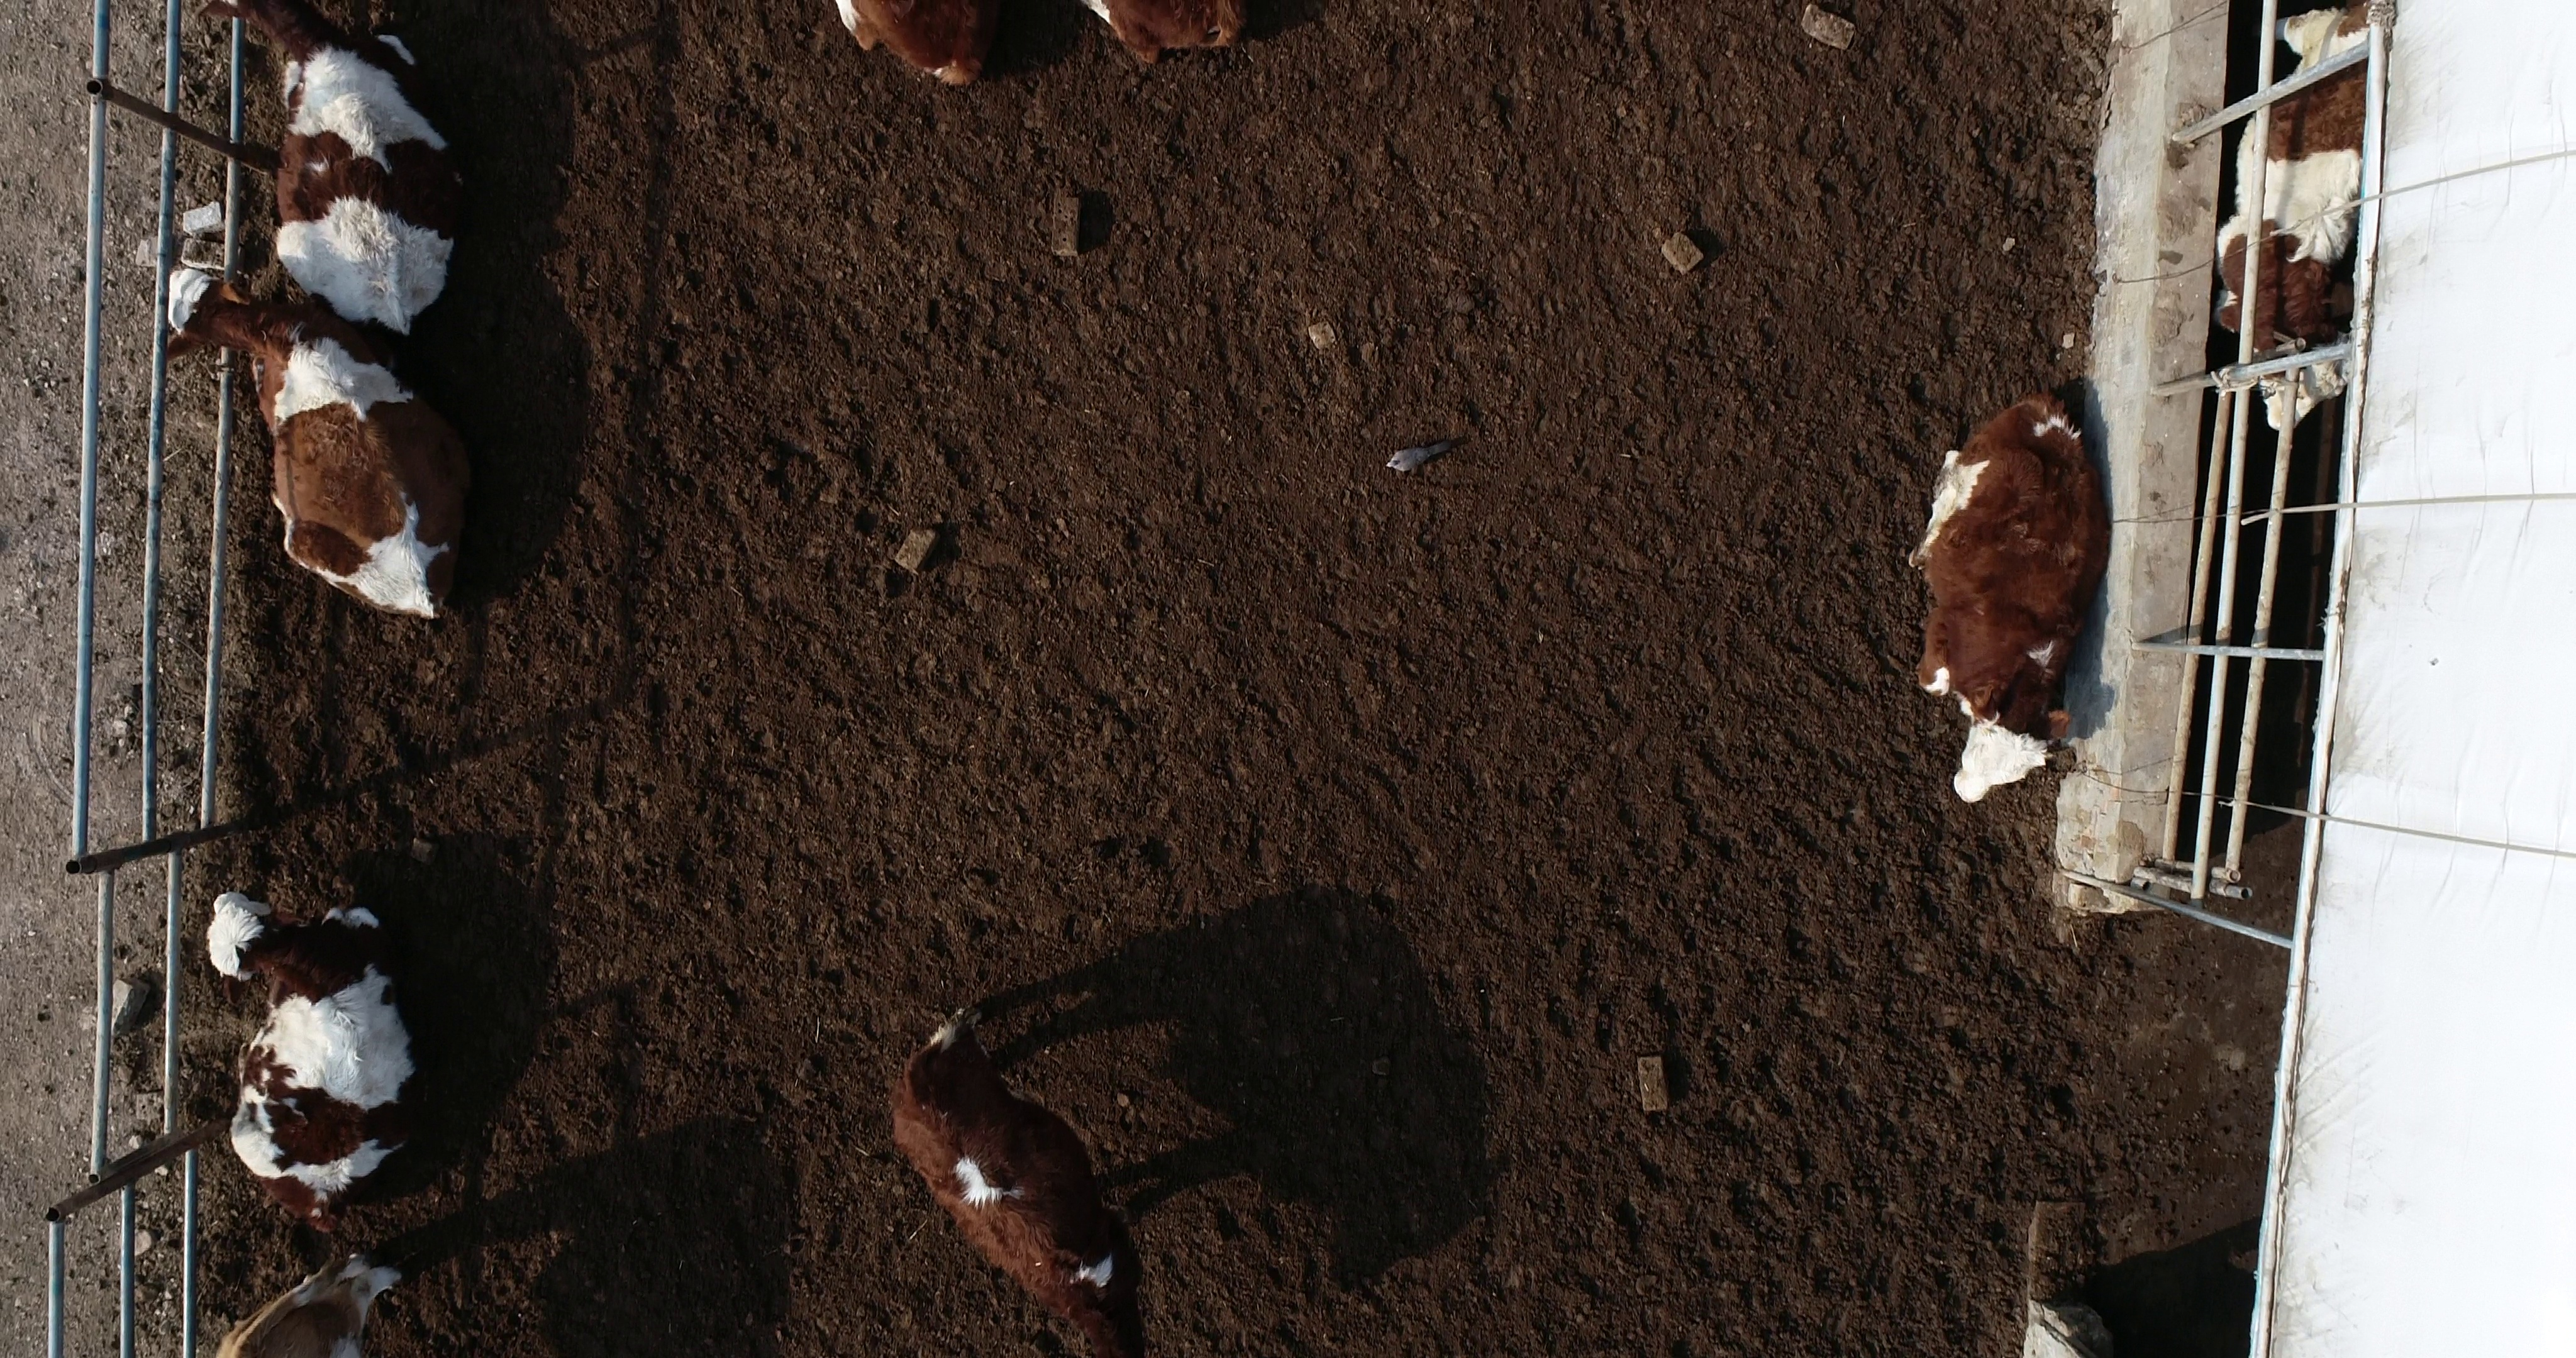cattle: (153, 257, 475, 637), (189, 2, 475, 341), (881, 1004, 1152, 1358), (1900, 390, 2116, 813), (196, 888, 433, 1235)
